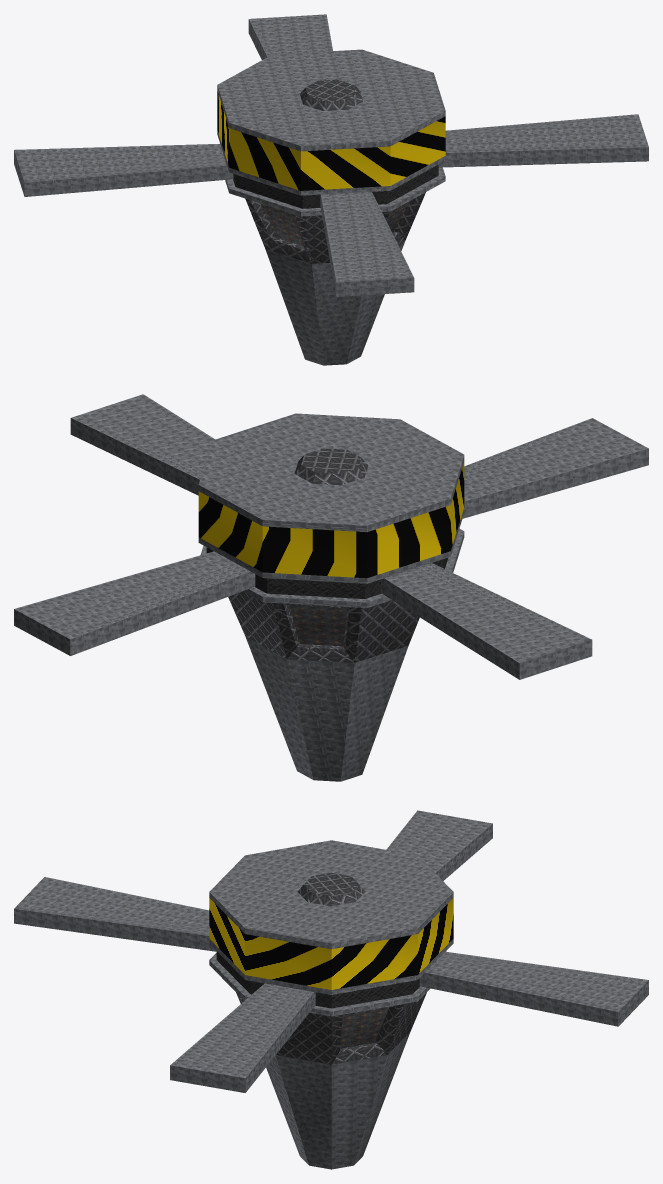
The model's file is LittleFan.fbx.
3 renders of one model, top to bottom at view 1: azimuth 30°, elevation 25°; view 2: azimuth 150°, elevation 25°; view 3: azimuth 270°, elevation 25°, orthographic. The views are drawn at different scales.
Parts seen in each view (by area): view 1: LittleFan, Blade_2, Blade; view 2: LittleFan, Blade, Blade_2; view 3: LittleFan, Blade, Blade_2.
Boxes of the visible parts, box(x1,y1,x2,y2) form: LittleFan: box(217, 49, 445, 365); Blade_2: box(14, 114, 648, 196); Blade: box(248, 14, 414, 296); LittleFan: box(198, 413, 464, 781); Blade: box(14, 418, 648, 655); Blade_2: box(70, 394, 592, 679); LittleFan: box(209, 840, 453, 1169); Blade: box(14, 877, 648, 1026); Blade_2: box(170, 810, 492, 1092).
Bounding box in the file's own units: 3891 × 1840 × 3896.
